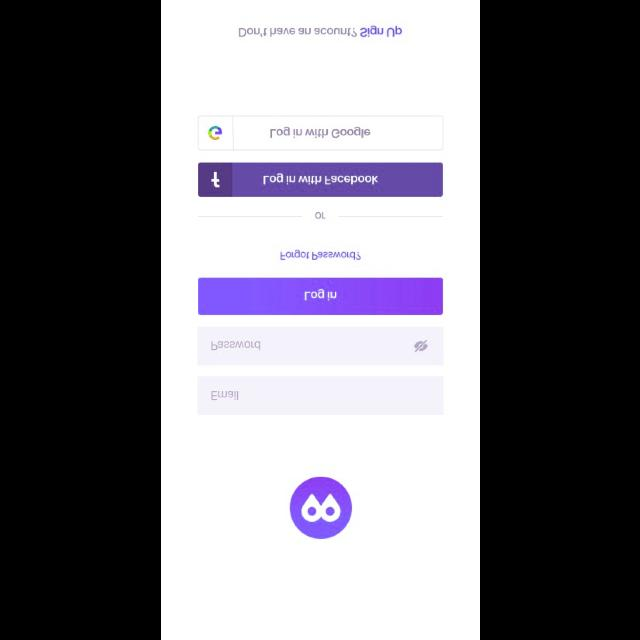icon: (414, 340, 428, 352)
image: (288, 476, 352, 538)
input: (197, 376, 443, 416), (197, 326, 443, 366)
text: (238, 24, 402, 38), (280, 250, 360, 260), (210, 341, 260, 351), (210, 391, 238, 401), (314, 212, 326, 218)
textbutton: (197, 115, 443, 151), (198, 278, 442, 314), (198, 163, 442, 197)
